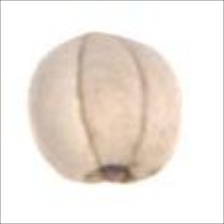L5: (73, 31, 149, 166), (69, 158, 158, 186)
L6: (26, 31, 184, 187)
